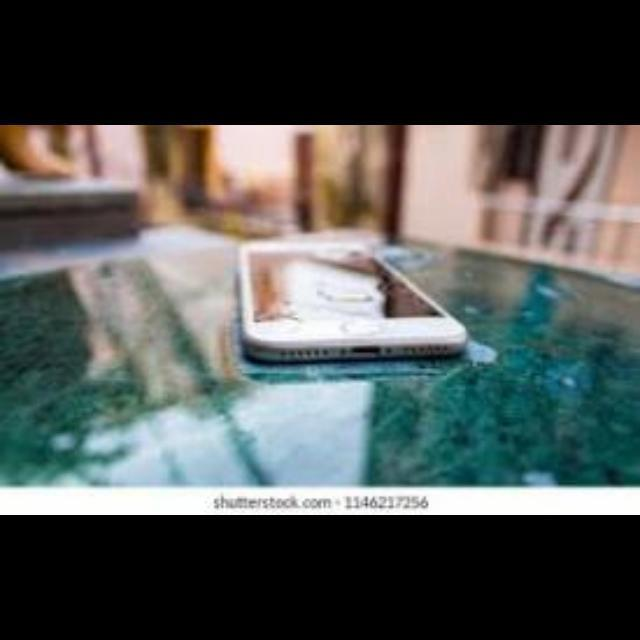phone: (192, 215, 487, 393)
